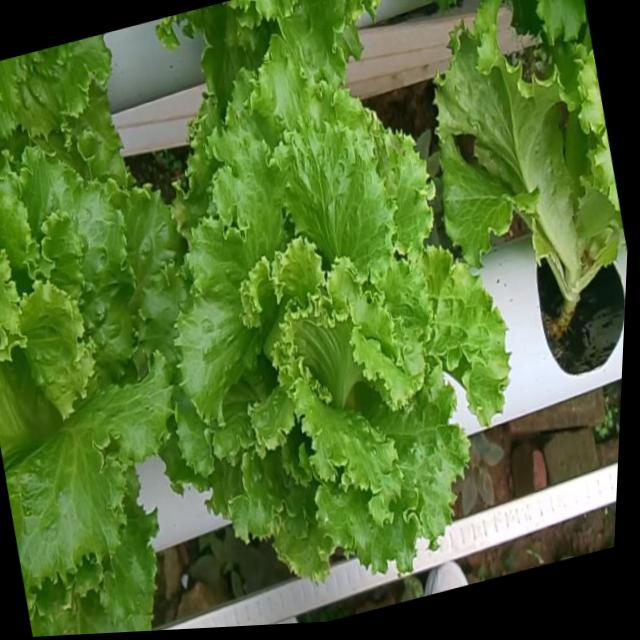Mature: (166, 69, 502, 588), (0, 155, 178, 601)
